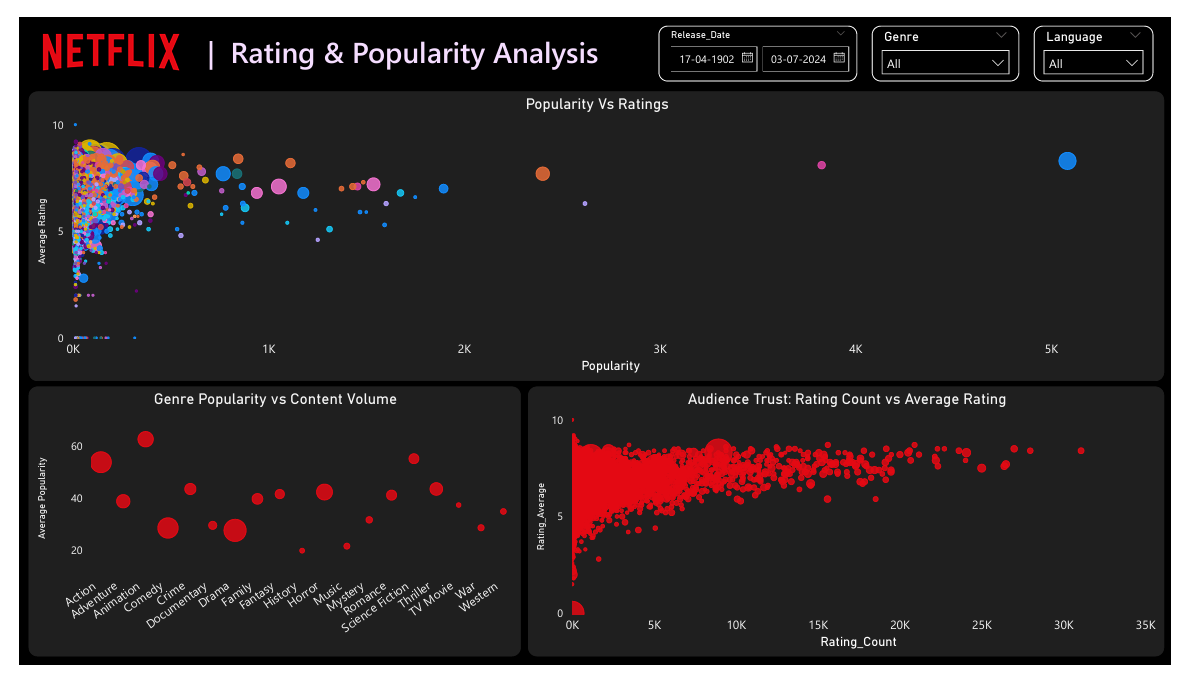

The page's visual inventory and layout, read from the dashboard file:
{"tool":"powerbi","page":{"name":"Rating & Popularity Analysis","canvas":[1280,720],"ordinal":1},"visuals":[{"type":"image","box":[1.7,10,201.7,60],"z":0},{"type":"textbox","box":[203.3,10,471.7,55],"z":1000},{"type":"scatterChart","title":"Audience Trust: Rating Count vs Average Rating","fields":{"X":["Sum(Netflix_dataset.Vote_Count)"],"Y":["Sum(Netflix_dataset.Vote_Average)"],"Size":["Sum(Netflix_dataset.Popularity)"]},"box":[565,410,706.7,300],"z":2000},{"type":"scatterChart","title":" Popularity Vs Ratings","fields":{"X":["Netflix_dataset.Popularity"],"Y":["Sum(Netflix_dataset.Vote_Average)"],"Size":["Sum(Netflix_dataset.Vote_Count)"],"Series":["Netflix_dataset.Genre"]},"box":[10,81.7,1261.7,322],"z":3000},{"type":"scatterChart","title":"Genre Popularity vs Content Volume","fields":{"Size":["Measures (3).Total Movies"],"X":["Netflix_dataset.Genre"],"Y":["Measures (3).Average Popularity"]},"box":[10,410,546.7,300],"z":4000},{"type":"slicer","fields":{"Values":["Netflix_dataset.Release_Date"]},"box":[710,8.6,221.4,62.9],"z":5000},{"type":"slicer","fields":{"Values":["Netflix_dataset.Genre"]},"box":[947.1,8.6,164.3,62],"z":6000},{"type":"slicer","fields":{"Values":["Netflix_dataset.Original_Language"]},"box":[1127.1,8.6,132.9,62.9],"z":7000}]}

Visuals, with their boxes in screenshot pixels (x1, y1, x2, y2), scaled from the page's 1280x720 canvas onto the 1190x686 screenshot:
image: [2,10,189,67]
textbox: [189,10,628,62]
"Audience Trust: Rating Count vs Average Rating" scatterChart: [525,391,1182,676]
" Popularity Vs Ratings" scatterChart: [9,78,1182,385]
"Genre Popularity vs Content Volume" scatterChart: [9,391,518,676]
slicer - Netflix_dataset.Release_Date: [660,8,866,68]
slicer - Netflix_dataset.Genre: [881,8,1033,67]
slicer - Netflix_dataset.Original_Language: [1048,8,1171,68]
